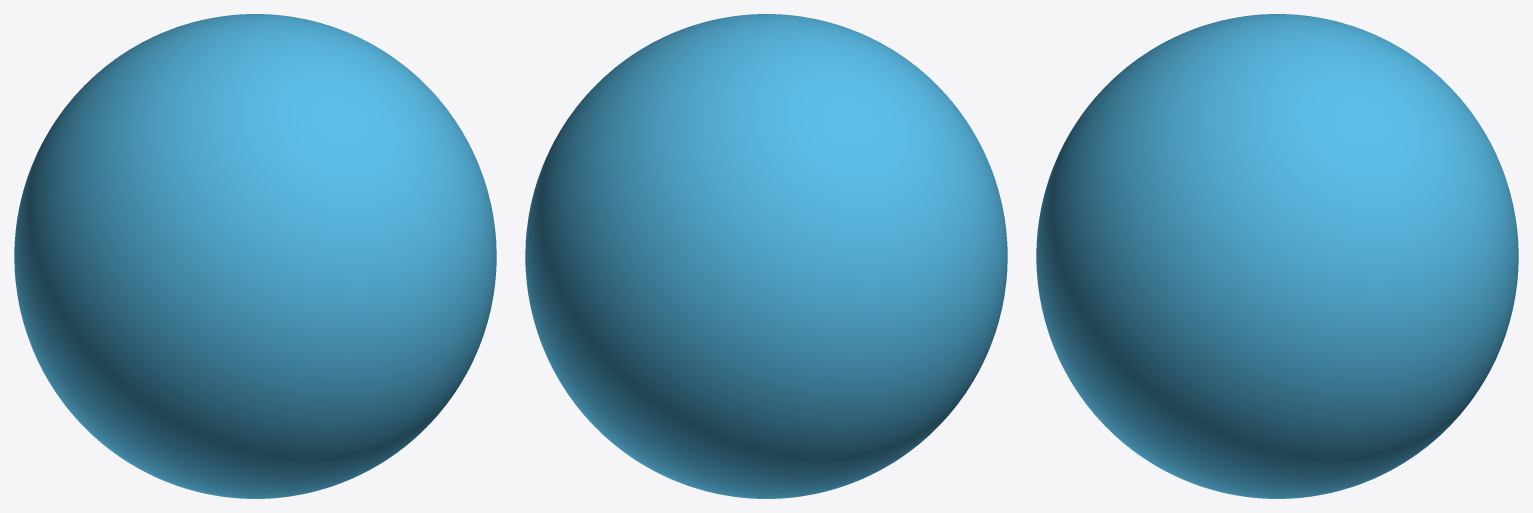
The model's file is slime.fbx.
The picture shows the model from 3 angles, left to right: view 1: azimuth 30°, elevation 25°; view 2: azimuth 150°, elevation 25°; view 3: azimuth 270°, elevation 25°; orthographic projection.
Parts seen in each view (by area): view 1: Sphere.002; view 2: Sphere.002; view 3: Sphere.002.
Part boxes in pixels (left/top/right/bottom): Sphere.002: left=14, top=14, right=496, bottom=498; Sphere.002: left=525, top=14, right=1007, bottom=498; Sphere.002: left=1036, top=14, right=1518, bottom=498.
Size of the model in its own units: 197 by 200 by 197.
